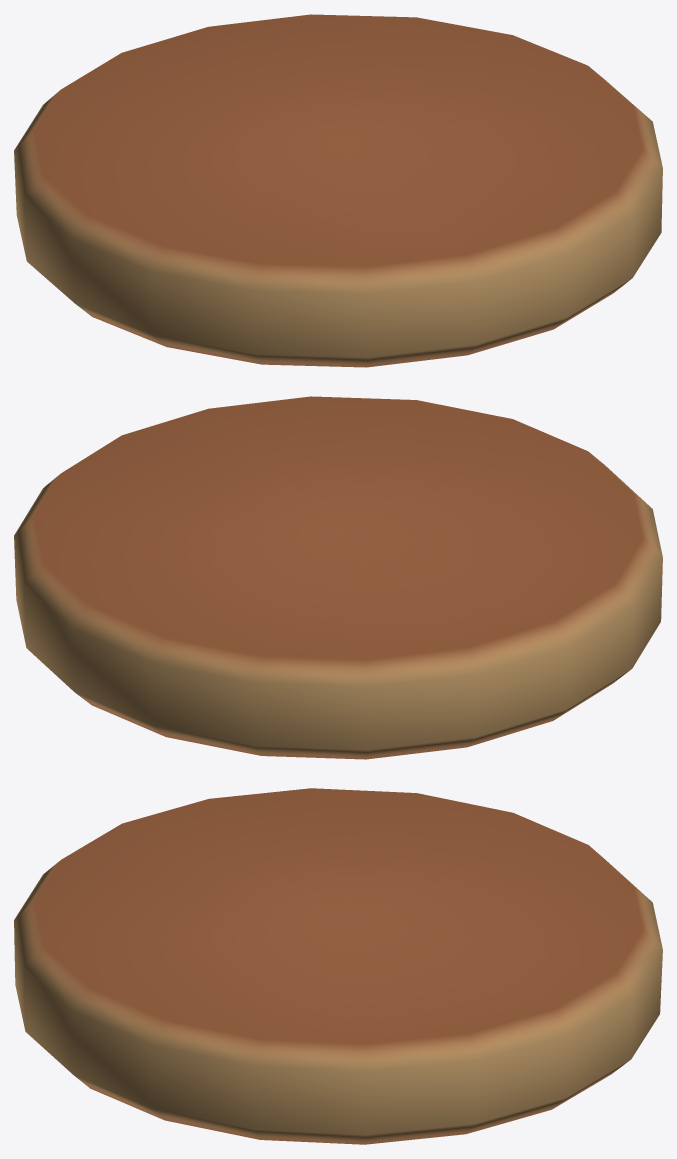
File: consumables-junkfood-pancake_v1.glb
3 views of the same model, one above another, from view 1: azimuth 30°, elevation 25°; view 2: azimuth 150°, elevation 25°; view 3: azimuth 270°, elevation 25° (orthographic).
Visible parts, largest first — view 1: Pancake_v1; view 2: Pancake_v1; view 3: Pancake_v1.
Boxes of the visible parts, x1,y1,x2,y2 form: Pancake_v1: (14, 14, 662, 367); Pancake_v1: (14, 396, 662, 759); Pancake_v1: (14, 788, 662, 1144).
Bounding box in the file's own units: 0.1004 × 0.0185 × 0.1004.
